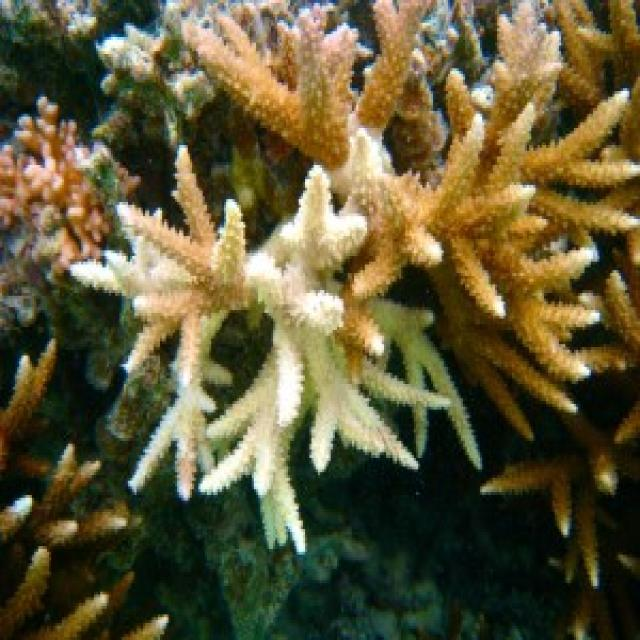Bleached: (251, 172, 417, 470), (205, 291, 316, 563), (129, 291, 225, 499), (372, 300, 481, 467), (71, 192, 210, 320)
Healthy: (432, 4, 639, 439), (1, 445, 133, 638), (1, 98, 110, 263)
